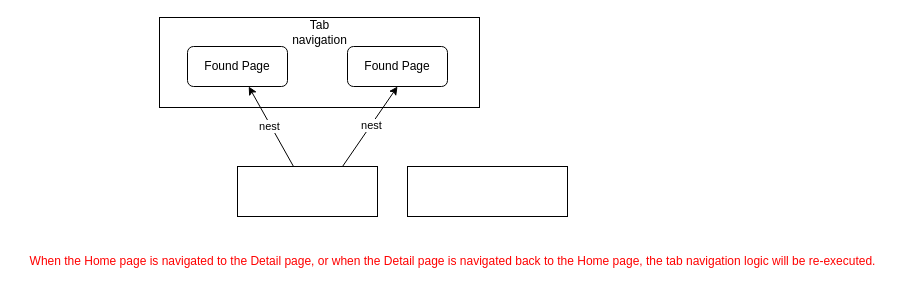
This 904x294 diagram has some shape labels left out. Here are the shapes that lost their labels. From the top down, the centre of each, then its label:
At (307,191): "Home (stack navigation)".
At (487,191): "Detail (stack navigation)".
